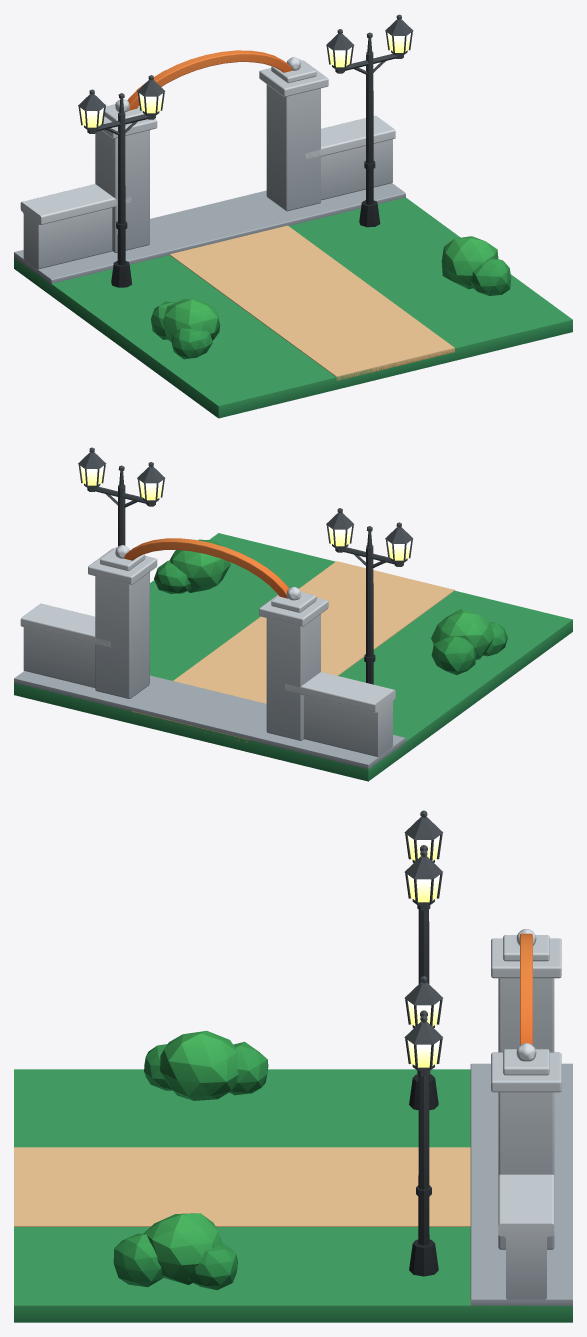
The model's file is portal_faroles.glb.
3 renders of one model, top to bottom at view 1: azimuth 30°, elevation 25°; view 2: azimuth 150°, elevation 25°; view 3: azimuth 270°, elevation 25°, orthographic. The views are drawn at different scales.
Visible parts, largest first — view 1: portal_faroles; view 2: portal_faroles; view 3: portal_faroles.
Boxes of the visible parts, x1,y1,x2,y2 form: portal_faroles: (14, 14, 572, 418); portal_faroles: (14, 447, 572, 781); portal_faroles: (14, 810, 572, 1322).
Size of the model in its own units: 6 by 3.46 by 6.
Materials: 1 (1 with a texture image).
